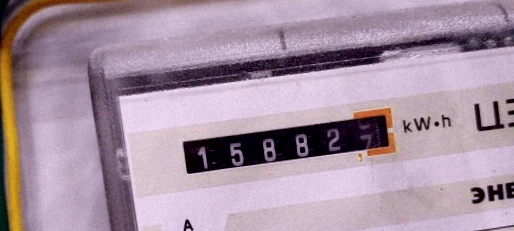1: (193, 141, 211, 171)
2: (323, 124, 343, 154)
5: (225, 138, 247, 167)
7: (356, 130, 374, 149)
8: (258, 134, 277, 164), (292, 129, 310, 159)
screen: (166, 98, 407, 188)
